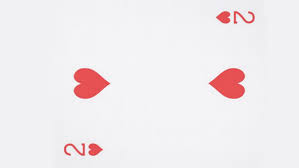two of hearts: (5, 1, 296, 168)
